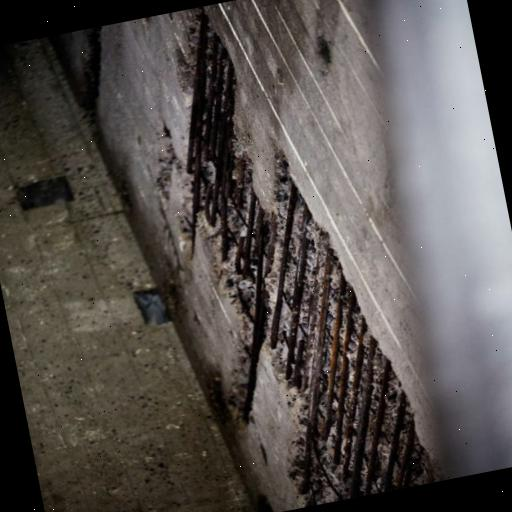spalling: (160, 19, 440, 504)
